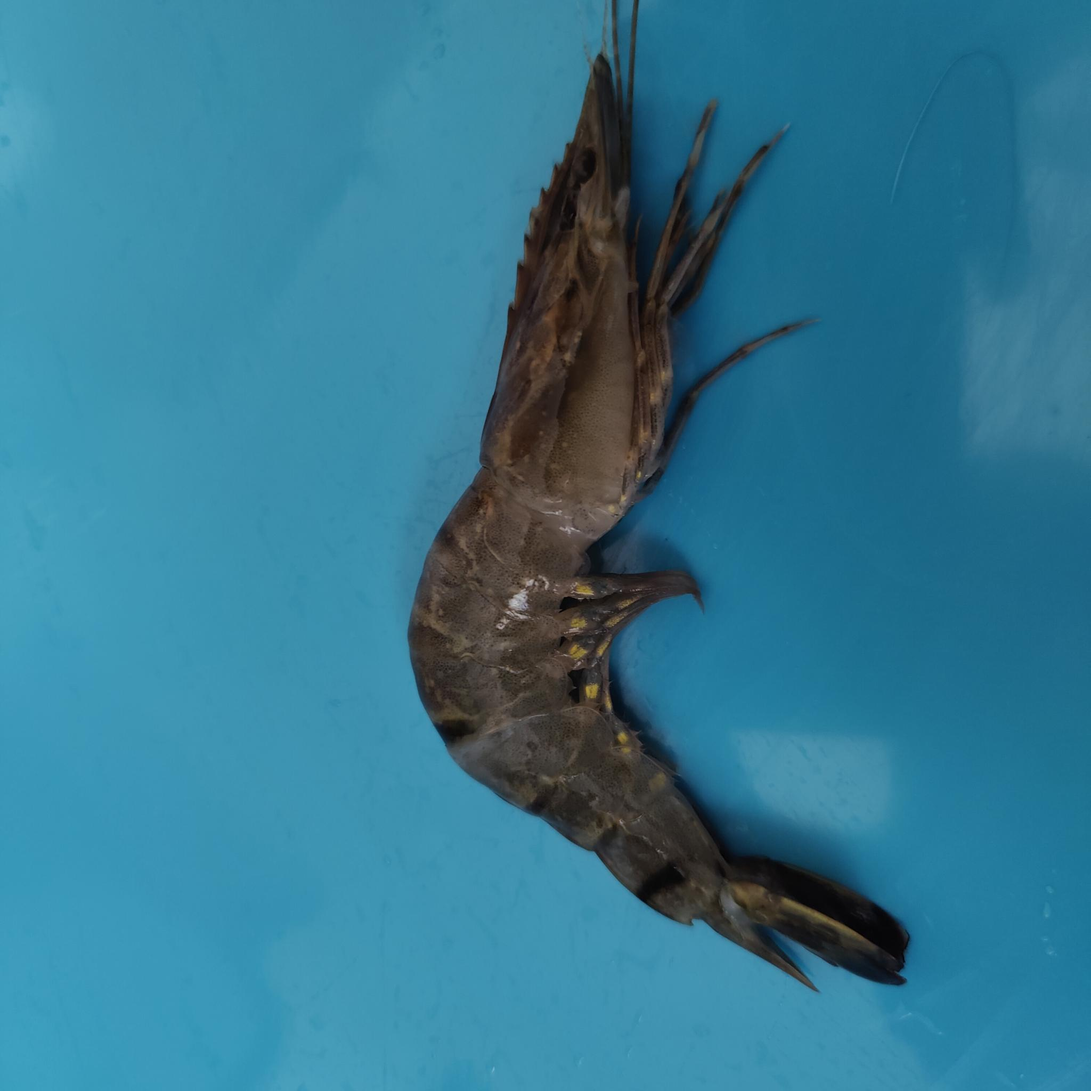whitespot: (481, 199, 599, 522), (412, 482, 516, 755)
